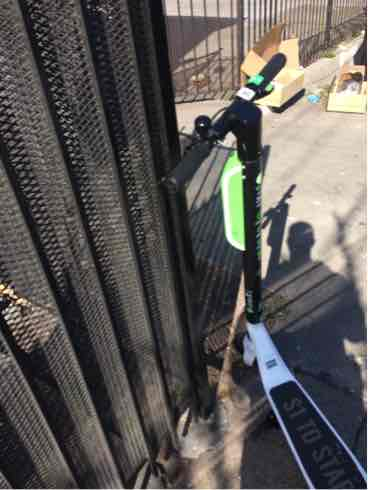scooter: (162, 39, 368, 488)
